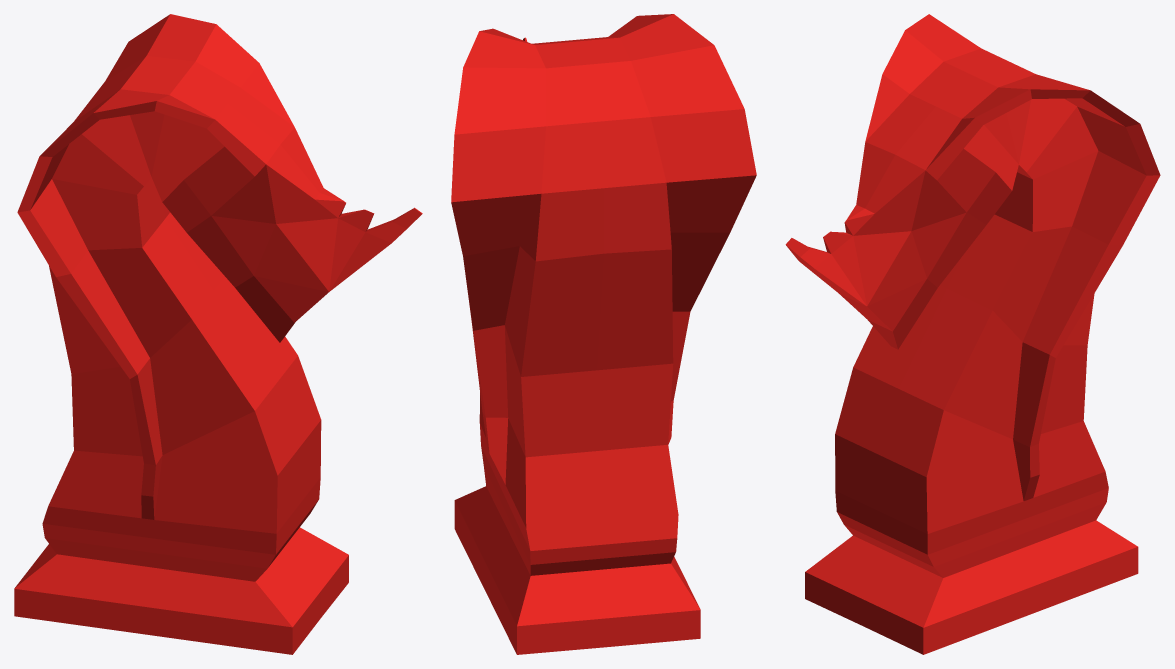
The model's file is red_nakv2.gltf.
3 renders of one model, left to right at view 1: azimuth 30°, elevation 25°; view 2: azimuth 150°, elevation 25°; view 3: azimuth 270°, elevation 25°, orthographic. The views are drawn at different scales.
Visible parts, largest first — view 1: Nakra.r; view 2: Nakra.r; view 3: Nakra.r.
Part boxes in pixels (x1,y1,x2,y2): Nakra.r: (14,14,422,654); Nakra.r: (451,14,756,654); Nakra.r: (785,14,1160,654).
Size of the model in its own units: 0.8717 by 1.42 by 0.9143.
Materials: 1 (1 with a texture image).
